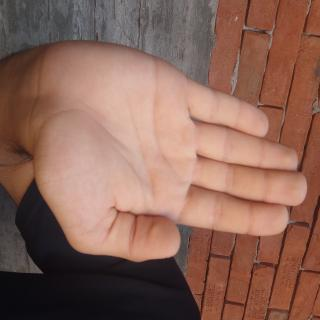SEEN: (23, 11, 198, 320)
